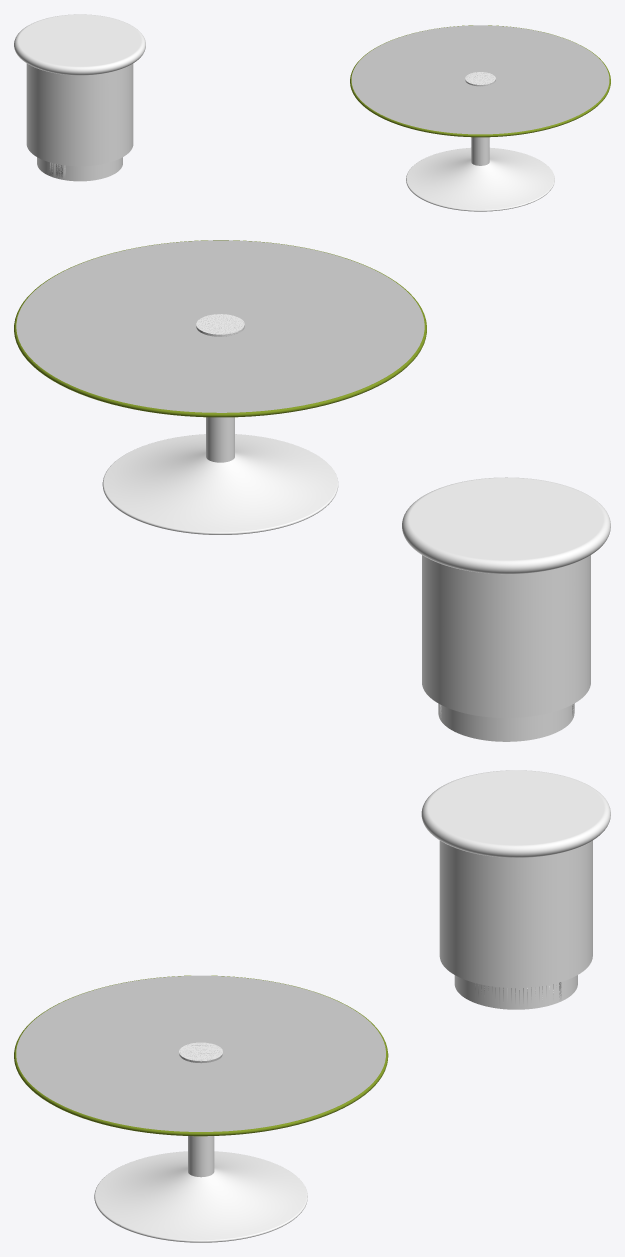
File: tables.dae
3 renders of one model, top to bottom at view 1: azimuth 30°, elevation 25°; view 2: azimuth 150°, elevation 25°; view 3: azimuth 270°, elevation 25°, orthographic. The views are drawn at different scales.
Parts seen in each view (by area): view 1: instance_0_079, instance_1_001, instance_0, instance_1_003, instance_1_002, instance_1, instance_0_085, instance_0_082; view 2: instance_0_079, instance_1_001, instance_0, instance_1_003, instance_1_002, instance_1, instance_0_085, instance_0_082; view 3: instance_0_079, instance_1_001, instance_0, instance_1_003, instance_1_002, instance_1, instance_0_085, instance_0_082.
Boxes of the visible parts, x1=… form: instance_0_079: x1=351, y1=25, x2=609, y2=134; instance_1_001: x1=26, y1=63, x2=133, y2=166; instance_0: x1=406, y1=137, x2=554, y2=211; instance_1_003: x1=21, y1=16, x2=138, y2=65; instance_1_002: x1=14, y1=14, x2=145, y2=75; instance_1: x1=37, y1=157, x2=122, y2=181; instance_0_085: x1=350, y1=25, x2=610, y2=137; instance_0_082: x1=465, y1=72, x2=495, y2=86; instance_0_079: x1=16, y1=240, x2=424, y2=412; instance_1_001: x1=422, y1=555, x2=590, y2=717; instance_0: x1=102, y1=417, x2=338, y2=534; instance_1_003: x1=414, y1=480, x2=598, y2=558; instance_1_002: x1=402, y1=477, x2=610, y2=574; instance_1: x1=438, y1=703, x2=574, y2=741; instance_0_085: x1=14, y1=240, x2=426, y2=417; instance_0_082: x1=196, y1=314, x2=244, y2=336; instance_0_079: x1=16, y1=975, x2=385, y2=1131; instance_1_001: x1=439, y1=840, x2=592, y2=987; instance_0: x1=94, y1=1136, x2=307, y2=1242; instance_1_003: x1=432, y1=772, x2=599, y2=843; instance_1_002: x1=421, y1=770, x2=610, y2=857; instance_1: x1=454, y1=975, x2=577, y2=1009; instance_0_085: x1=14, y1=975, x2=388, y2=1136; instance_0_082: x1=179, y1=1042, x2=222, y2=1061.
Bounding box in the file's own units: 2.2 × 1.72 × 0.6066.
